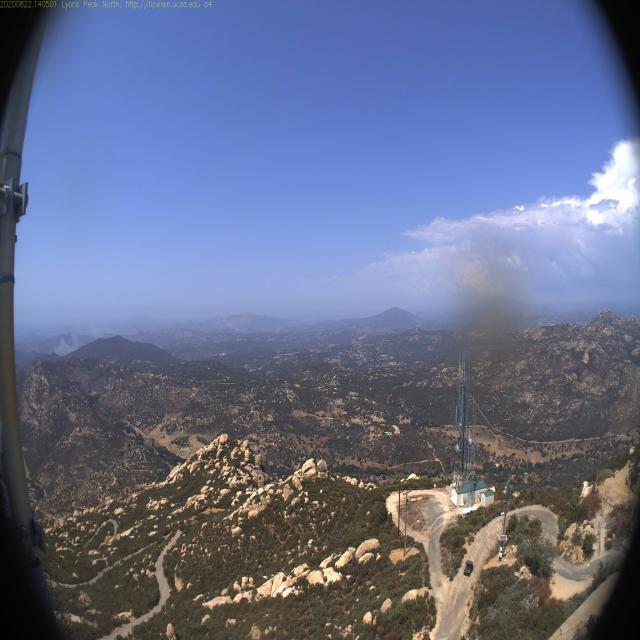smoke: (53, 324, 109, 357)
